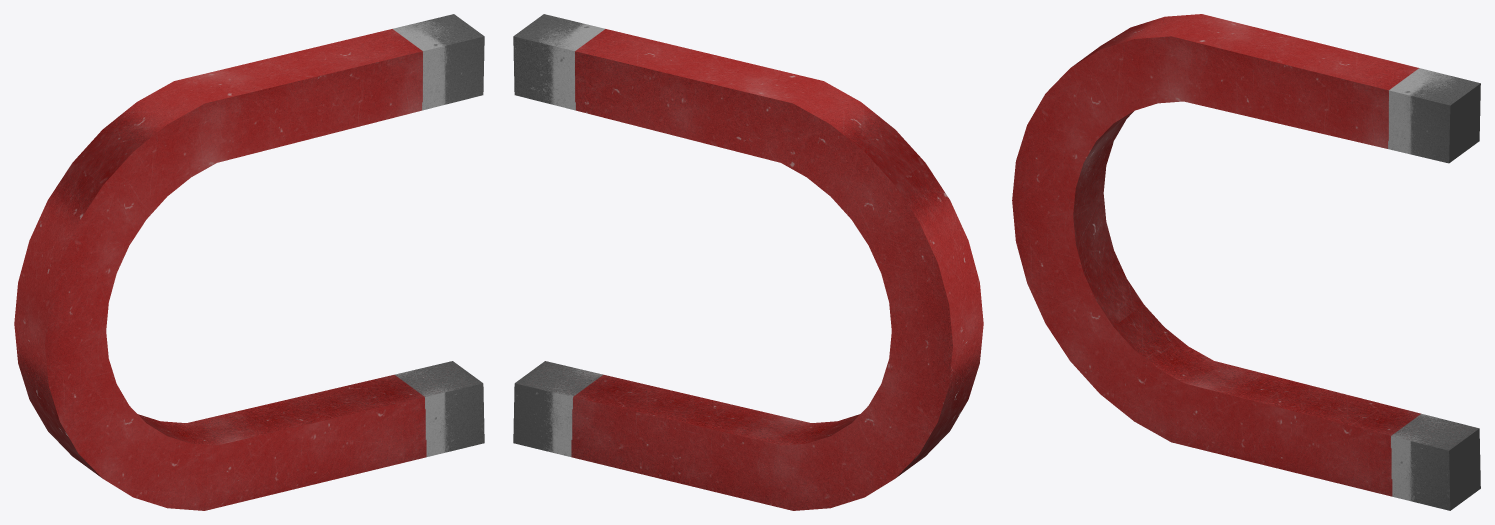
Rendered from scene_baked.glb.
3 renders of one model, left to right at view 1: azimuth 30°, elevation 25°; view 2: azimuth 150°, elevation 25°; view 3: azimuth 330°, elevation 25°, orthographic.
Parts seen in each view (by area): view 1: Scene_Baked; view 2: Scene_Baked; view 3: Scene_Baked.
Boxes of the visible parts, x1,y1,x2,y2 form: Scene_Baked: (14, 14, 484, 510); Scene_Baked: (513, 14, 983, 510); Scene_Baked: (1012, 14, 1480, 510).
Bounding box in the file's own units: 3.66 × 3.24 × 0.441.
Materials: 1 (1 with a texture image).
